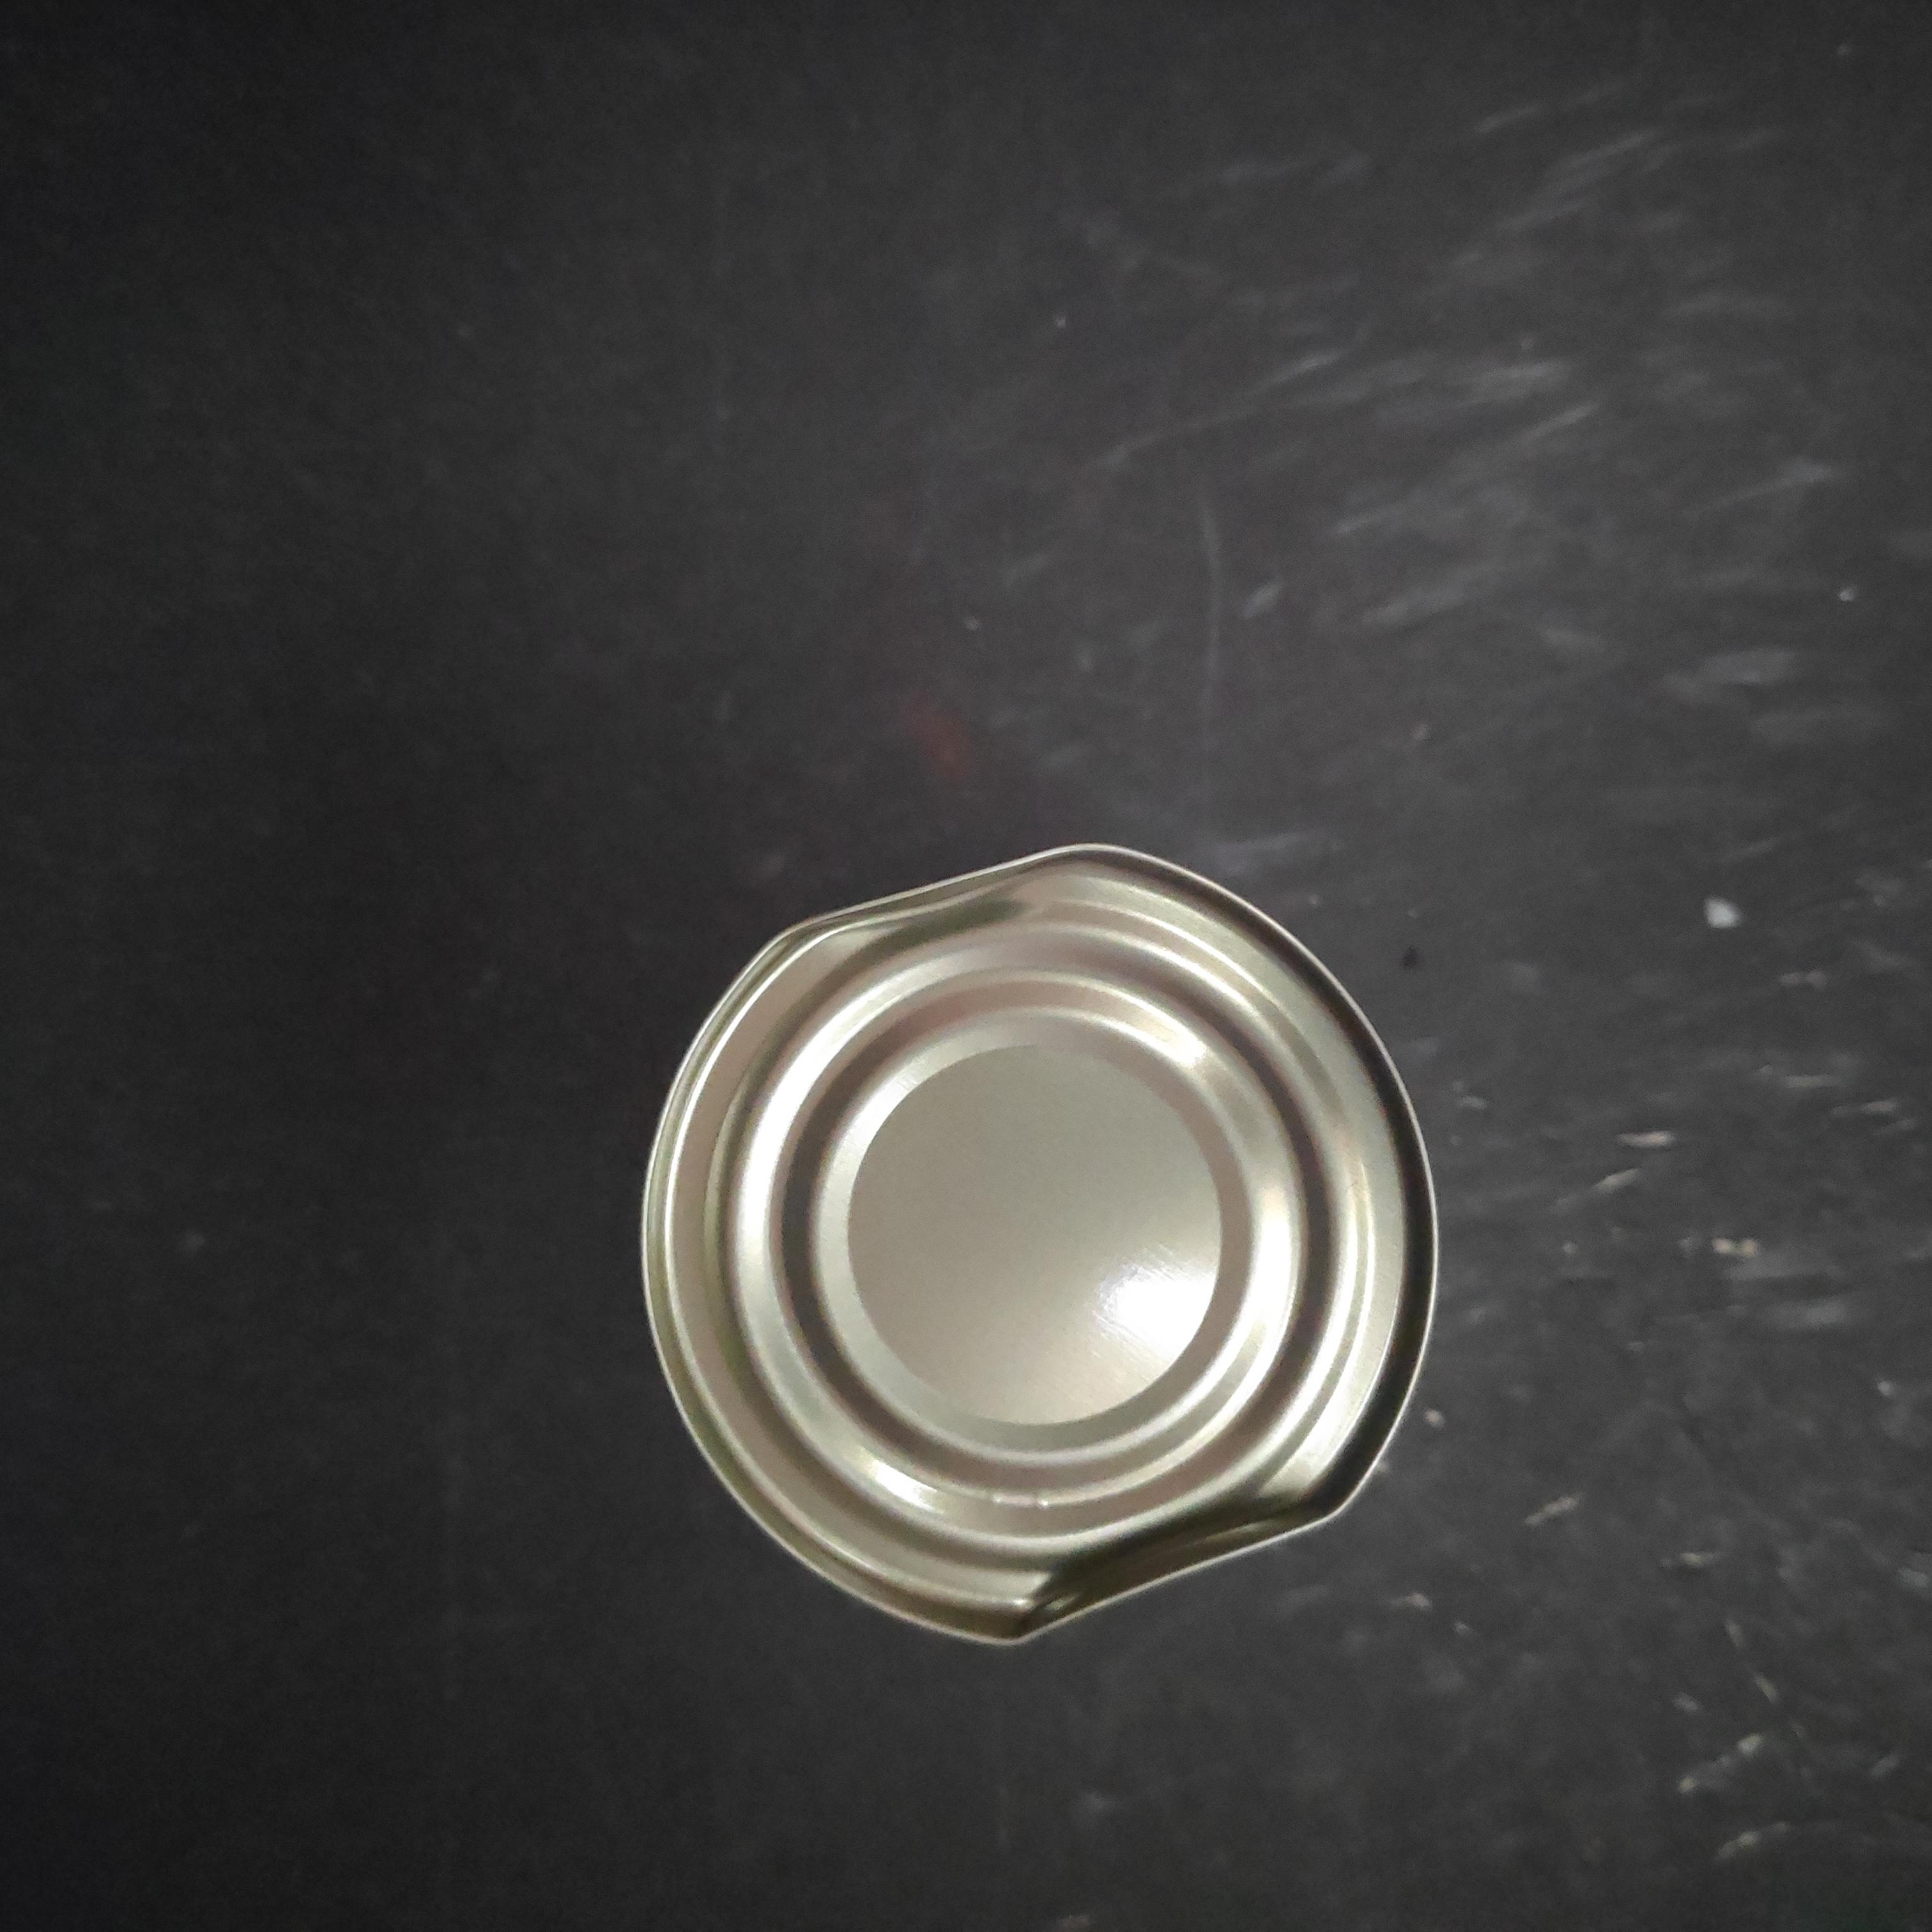Minor Defect: (631, 831, 1441, 1664)
